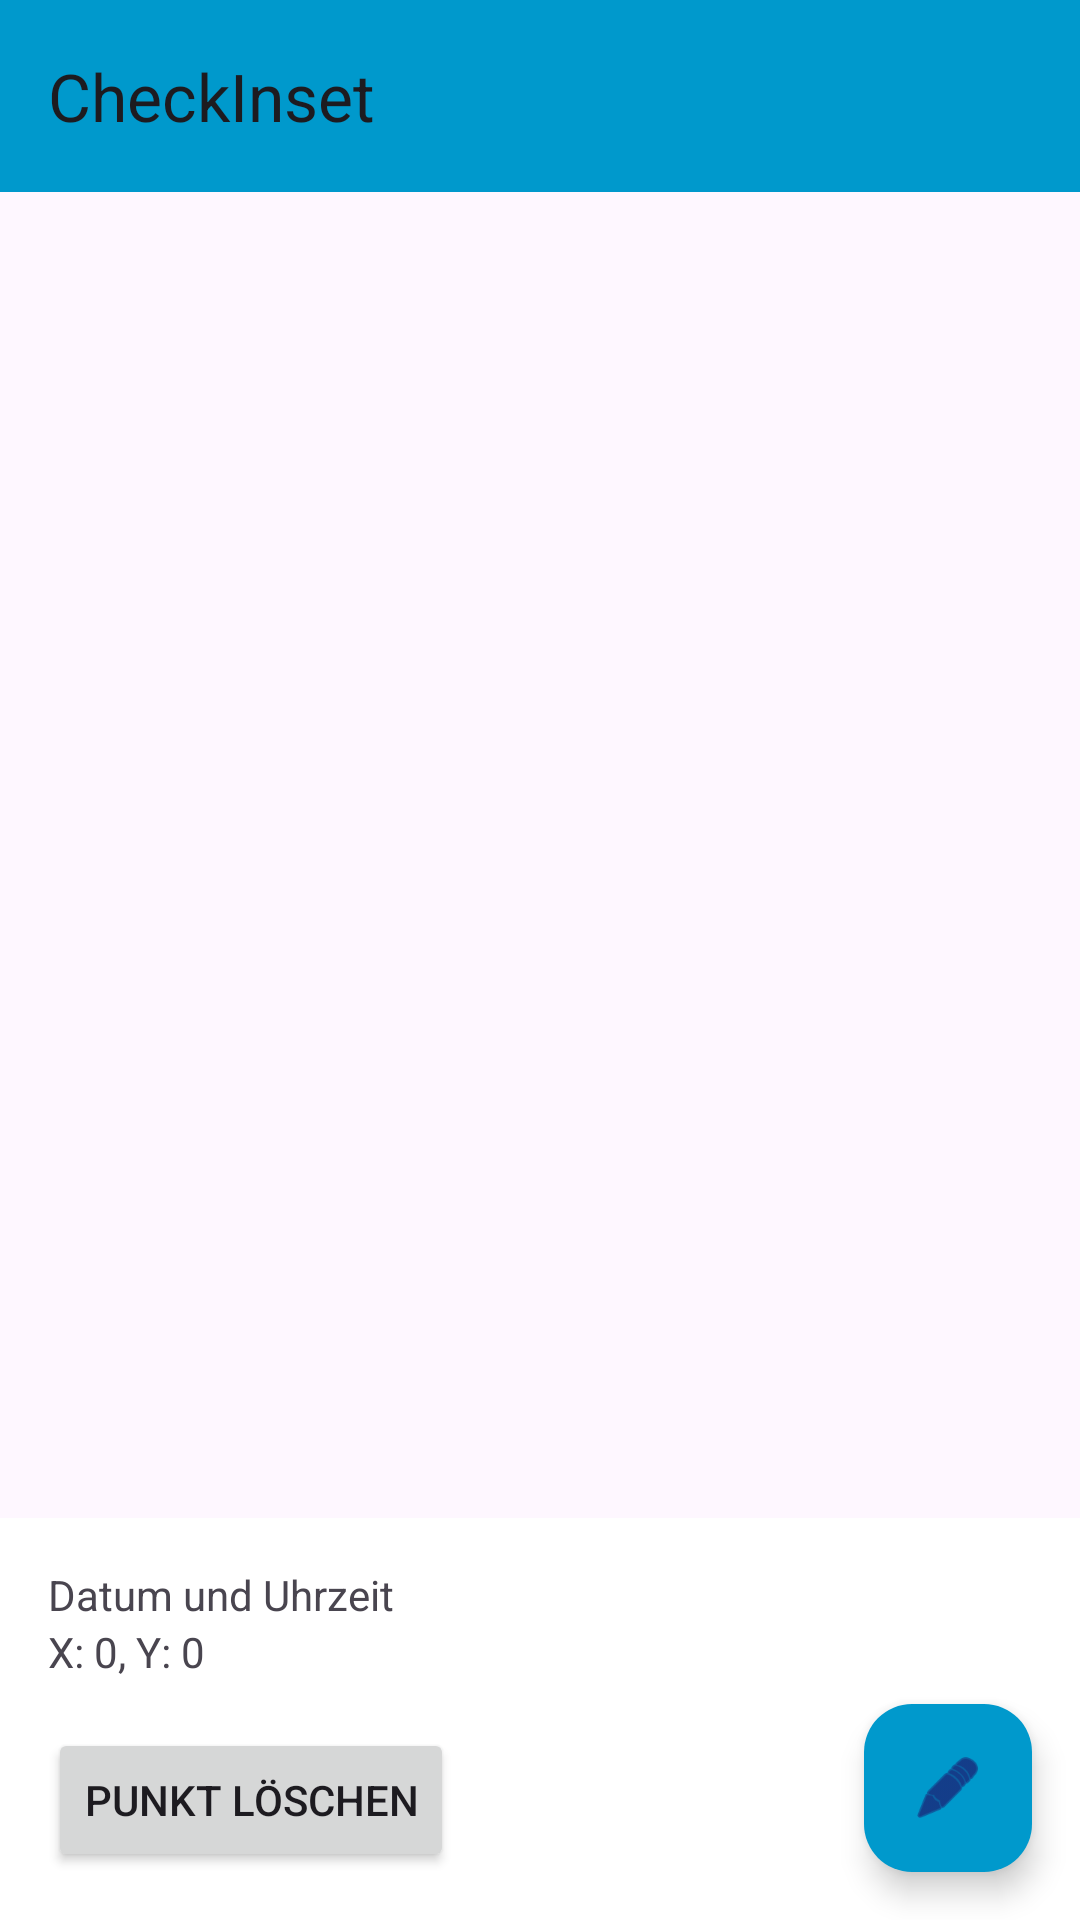

Where icons sit on this 1080px x 1920px app screen, as (x1, y1, x2, y2):
Punkte setzen: (864, 1704, 1032, 1872)
